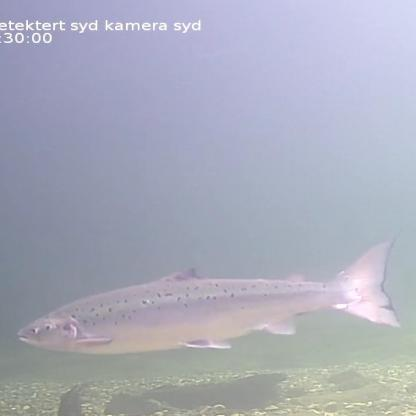salmon: (10, 234, 403, 357)
